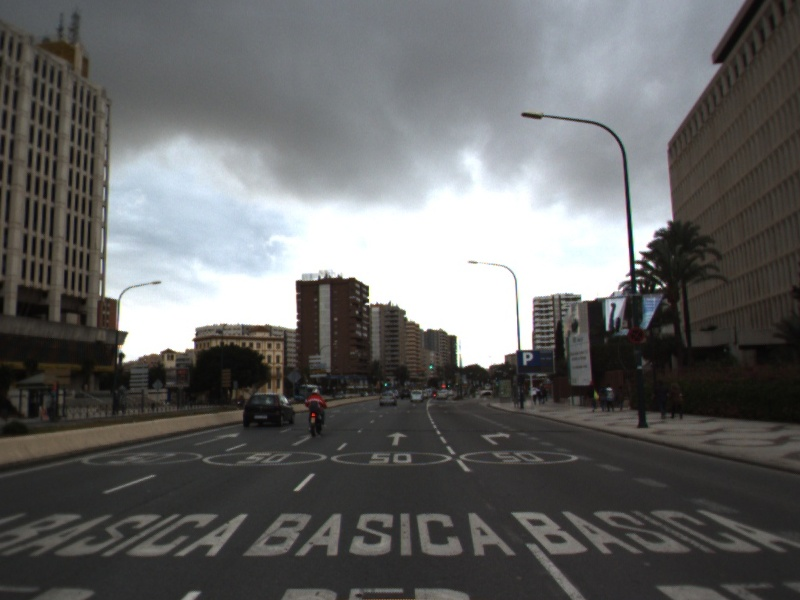RIGHT: (479, 429, 512, 447)
STRAIGHT: (192, 430, 243, 447), (289, 430, 324, 449), (384, 430, 410, 447)
